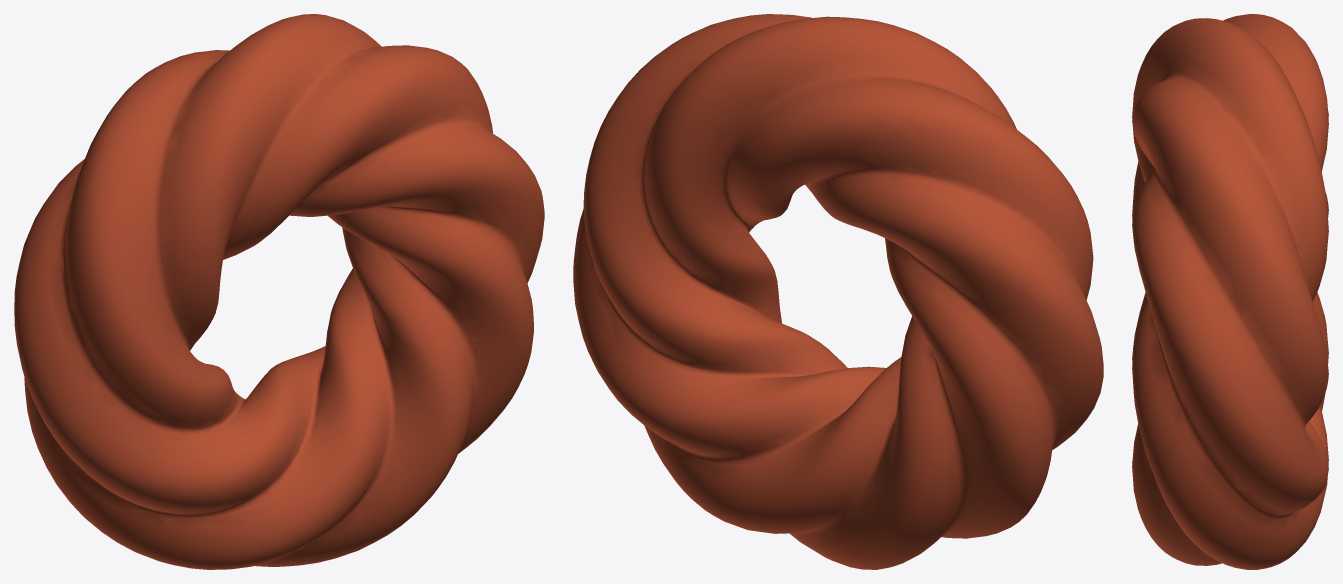
The picture shows the model from 3 angles, left to right: view 1: azimuth 30°, elevation 25°; view 2: azimuth 150°, elevation 25°; view 3: azimuth 270°, elevation 25°; orthographic projection. The views are drawn at different scales.
Parts seen in each view (by area): view 1: Shape3; view 2: Shape3; view 3: Shape3.
Boxes of the visible parts, x1,y1,x2,y2 form: Shape3: [14, 14, 544, 569]; Shape3: [573, 14, 1103, 569]; Shape3: [1132, 14, 1328, 569].
Size of the model in its own units: 3.85 by 3.85 by 1.33.
